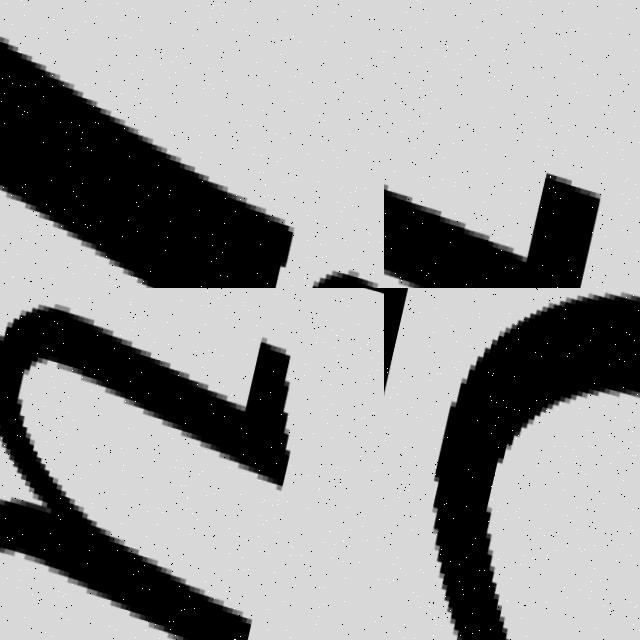E: (433, 292, 640, 640)
I: (0, 24, 384, 288), (384, 0, 640, 288)
W: (0, 288, 306, 640)
